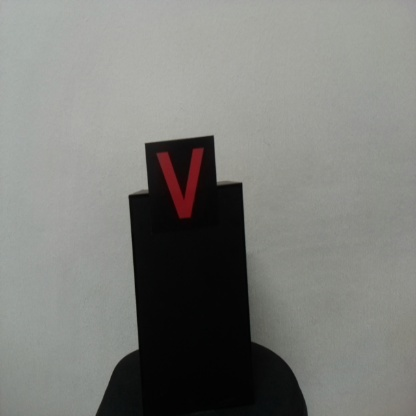id_11: (145, 143, 216, 231)
